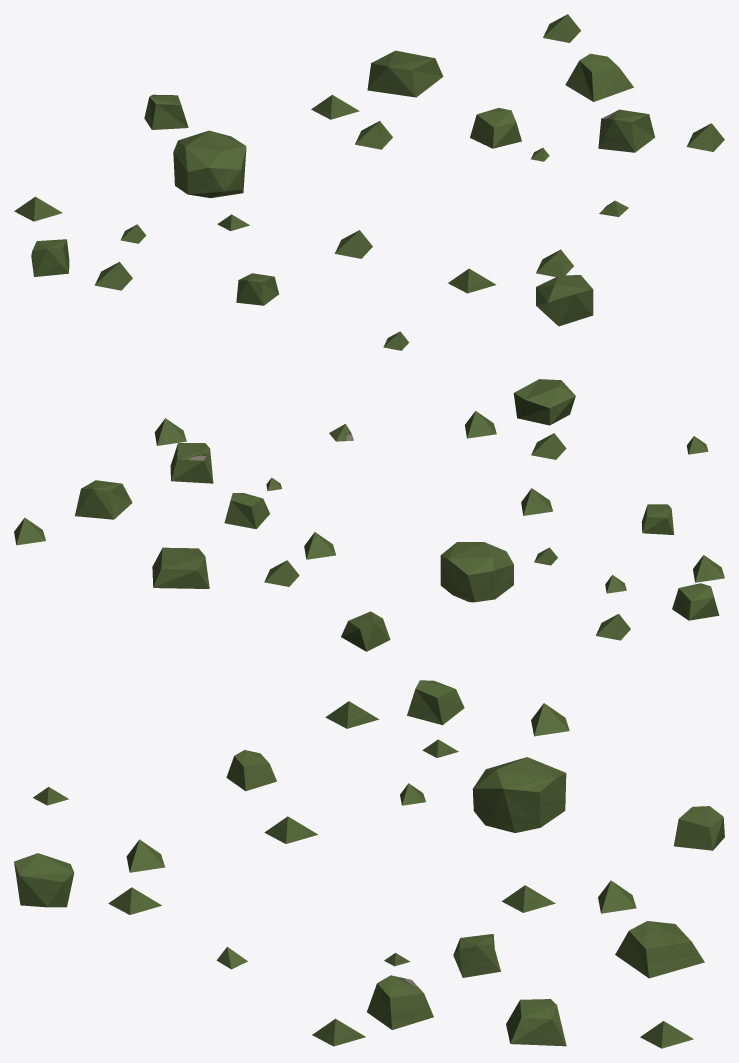
The model's file is synty-terrain-rubble-pebbles-03.gltf.
3 renders of one model, top to bottom at view 1: azimuth 30°, elevation 25°; view 2: azimuth 150°, elevation 25°; view 3: azimuth 270°, elevation 25°, orthographic. The views are drawn at different scales.
Visible parts, largest first — view 1: SM_Terrain_Rubble_Pebbles_03; view 2: SM_Terrain_Rubble_Pebbles_03; view 3: SM_Terrain_Rubble_Pebbles_03.
Boxes of the visible parts, bbox=[...] form: SM_Terrain_Rubble_Pebbles_03: bbox=[14, 14, 724, 350]; SM_Terrain_Rubble_Pebbles_03: bbox=[14, 379, 724, 651]; SM_Terrain_Rubble_Pebbles_03: bbox=[14, 680, 724, 1048].
Size of the model in its own units: 2.26 by 0.1618 by 1.92.
Materials: 1 (1 with a texture image).
